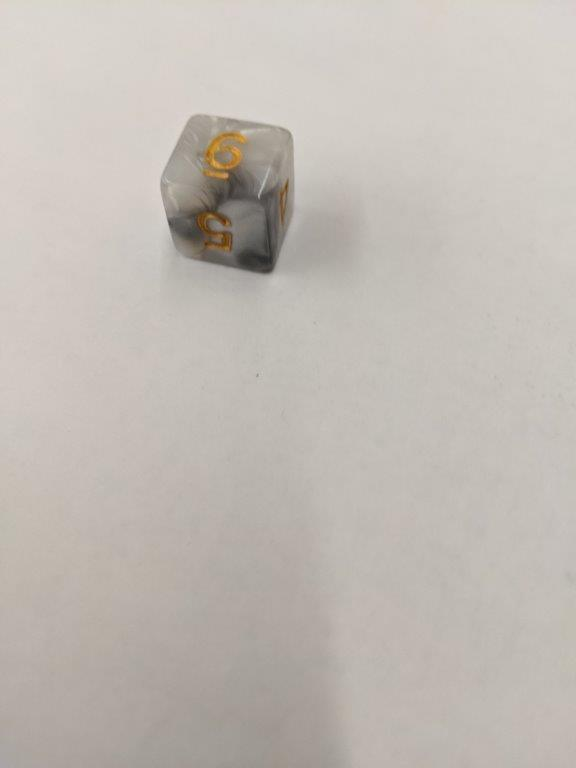d6-6: (160, 114, 297, 272)
